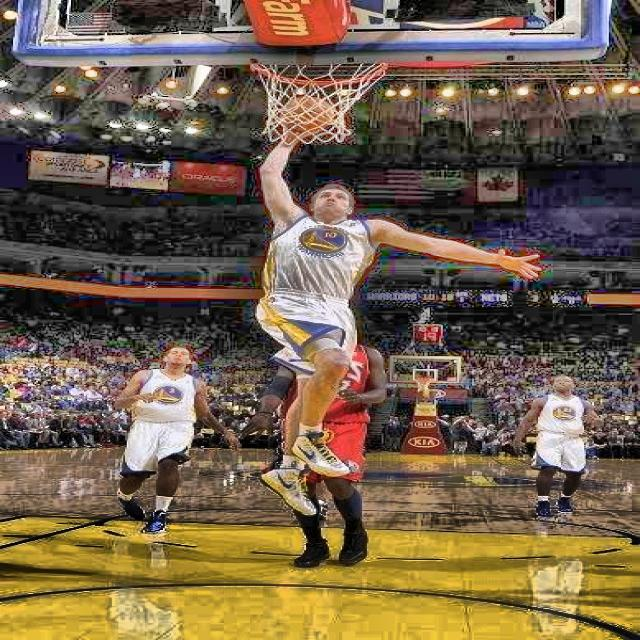rim: (243, 61, 392, 142)
